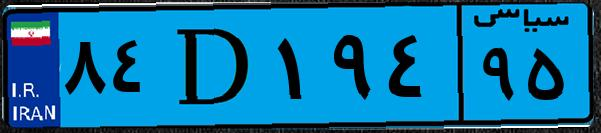1: (270, 28, 330, 110)
4: (385, 28, 445, 110), (110, 28, 158, 98)
5: (525, 38, 570, 115)
8: (57, 26, 110, 100)
9: (330, 28, 385, 110), (475, 38, 525, 113)
D: (158, 12, 270, 120)
